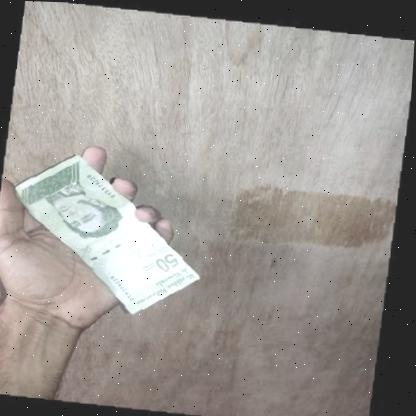fifty-front-vef: (6, 148, 211, 317)
